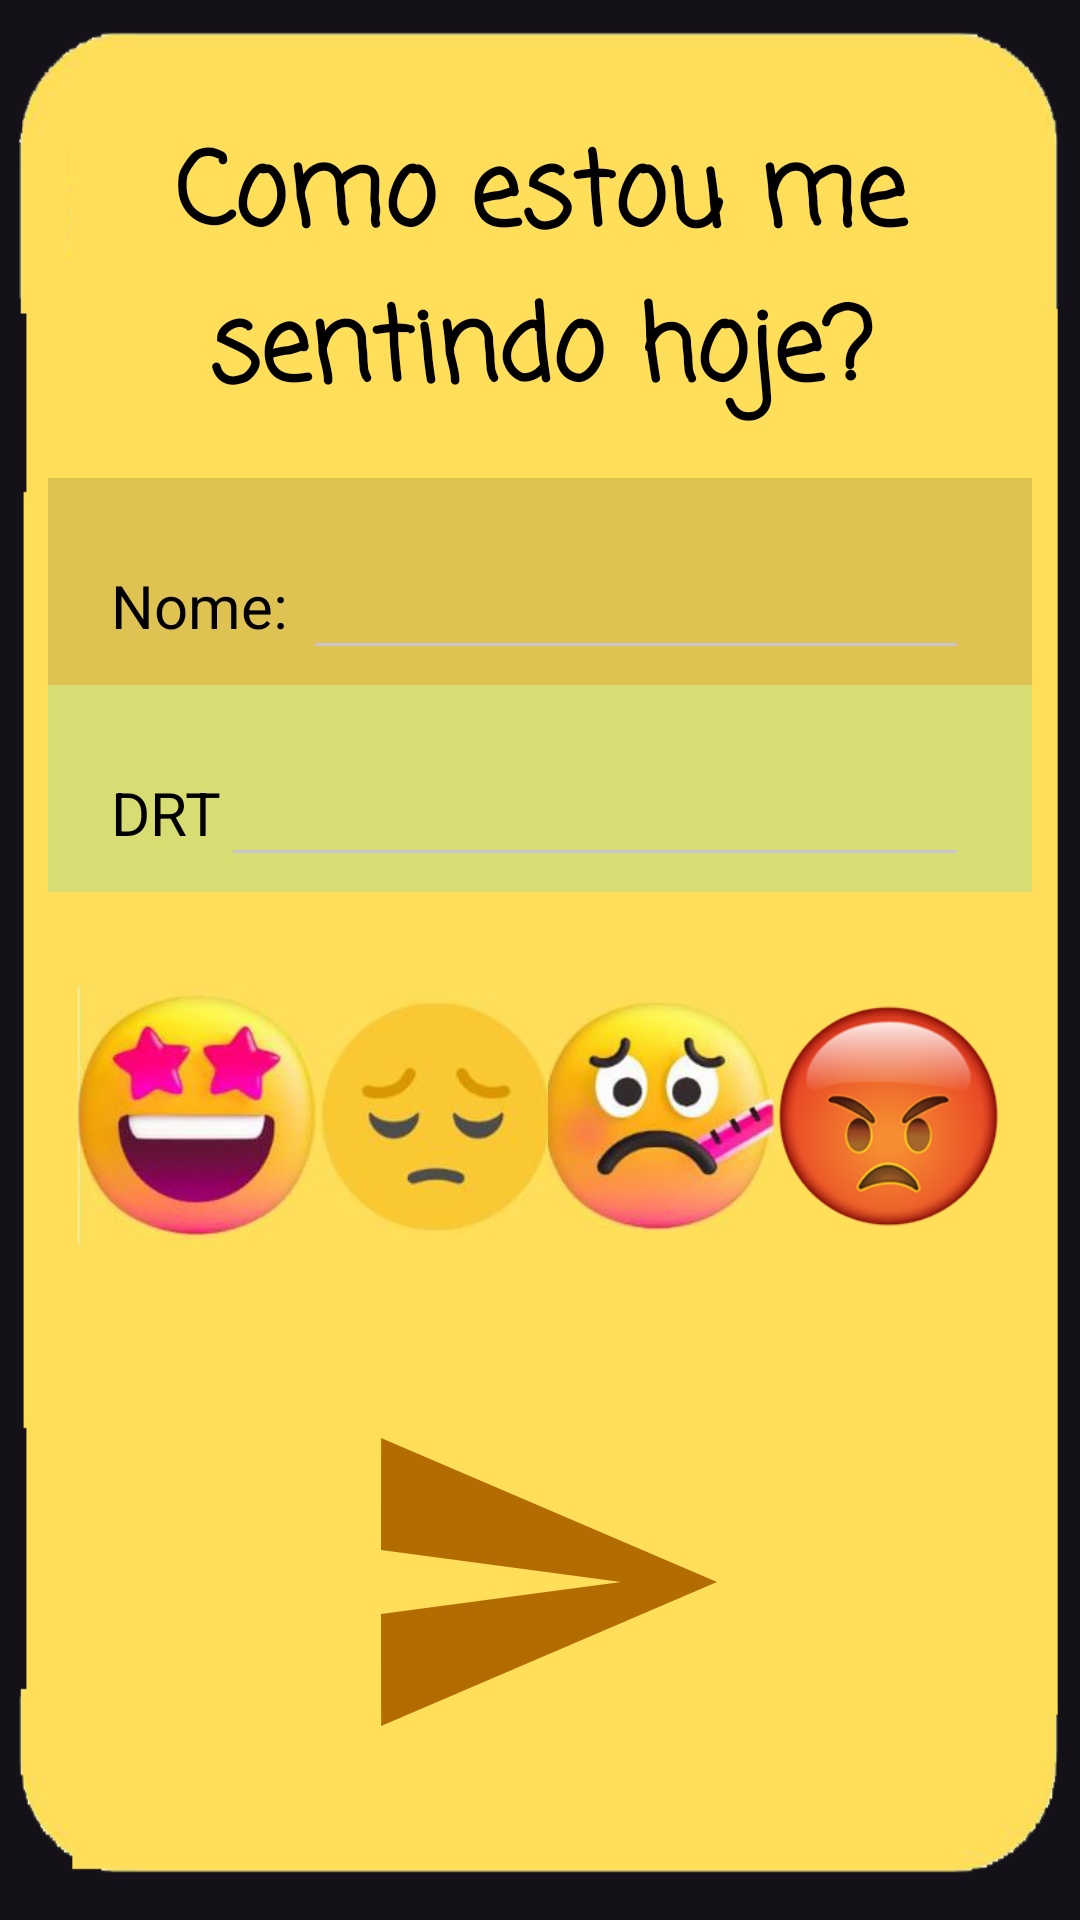

Icons on this 1080*1920 Android screen, each with its box as (x1, y1, x2, y2):
bravoemoji: (779, 1006, 998, 1226)
donteemoji: (548, 1006, 775, 1230)
felizemoji: (78, 986, 315, 1245)
send: (381, 1438, 716, 1726)
tristeemoji: (322, 1004, 548, 1230)
